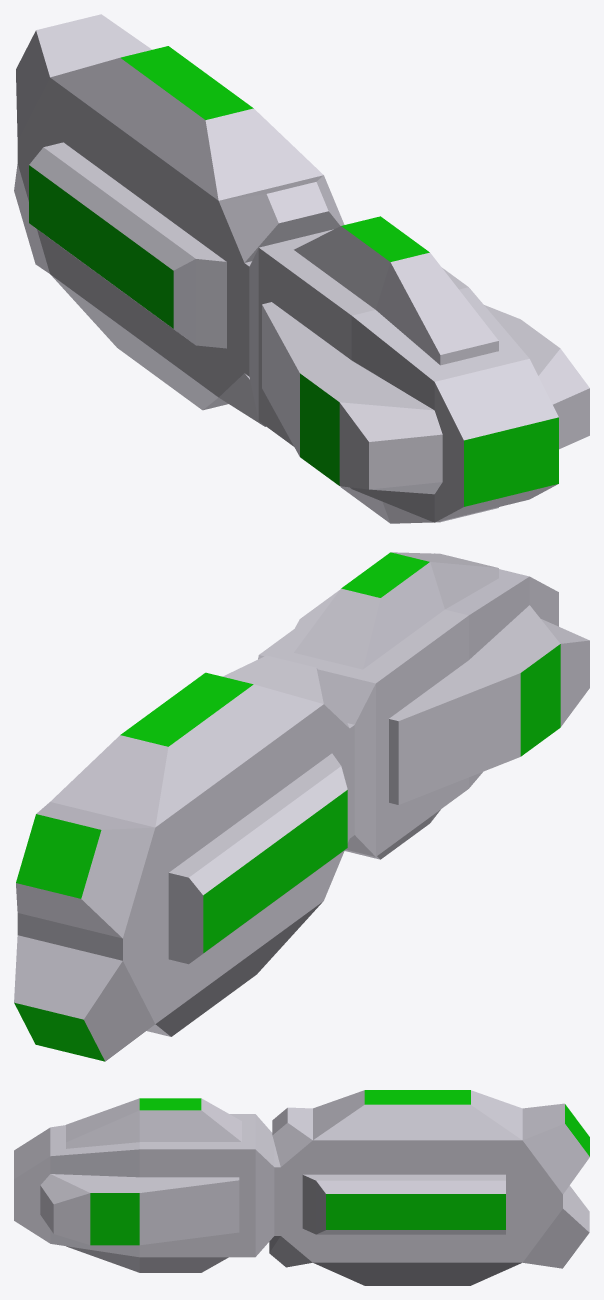
File: hull.lump.fbx
3 views of the same model, one above another, from view 1: azimuth 30°, elevation 25°; view 2: azimuth 150°, elevation 25°; view 3: azimuth 270°, elevation 25° (orthographic). The views are drawn at different scales.
Visible parts, largest first — view 1: hull.lump; view 2: hull.lump; view 3: hull.lump.
Boxes of the visible parts, <box> form: hull.lump: <box>14,14,589,523</box>; hull.lump: <box>14,552,589,1061</box>; hull.lump: <box>14,1090,589,1285</box>.
Size of the model in its own units: 2.26 by 2.83 by 8.19.
